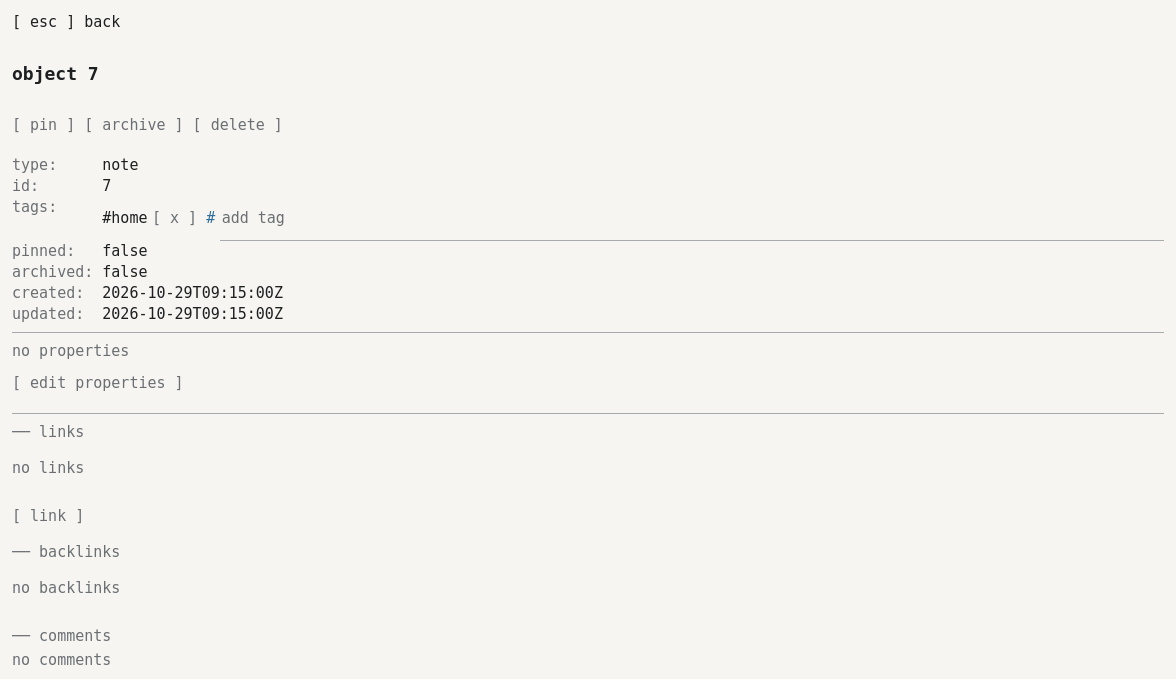
Test case: tags › adds a tag and shows the normalized tags from the server
Expected: the heading "object 7" is shown, [12, 52, 99, 96]
Type " Work/X " into the field labelled "add tag" at (692, 218), box [220, 196, 1164, 240]
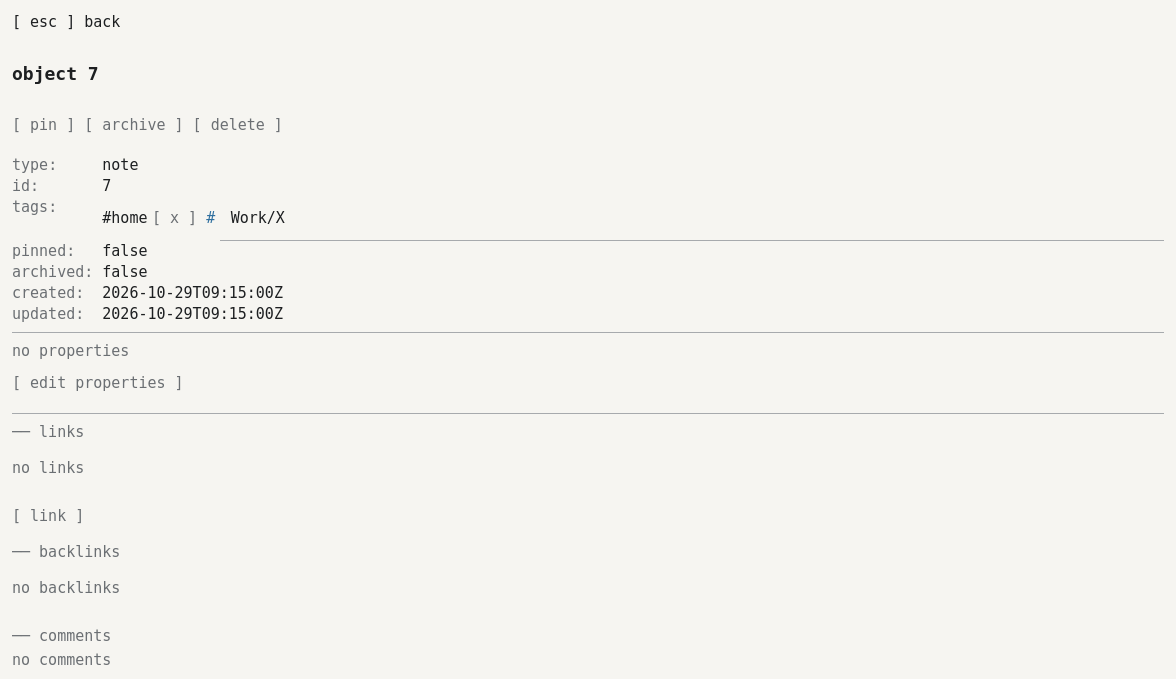
Submit the form from the field named "add tag", box [220, 196, 1164, 240]
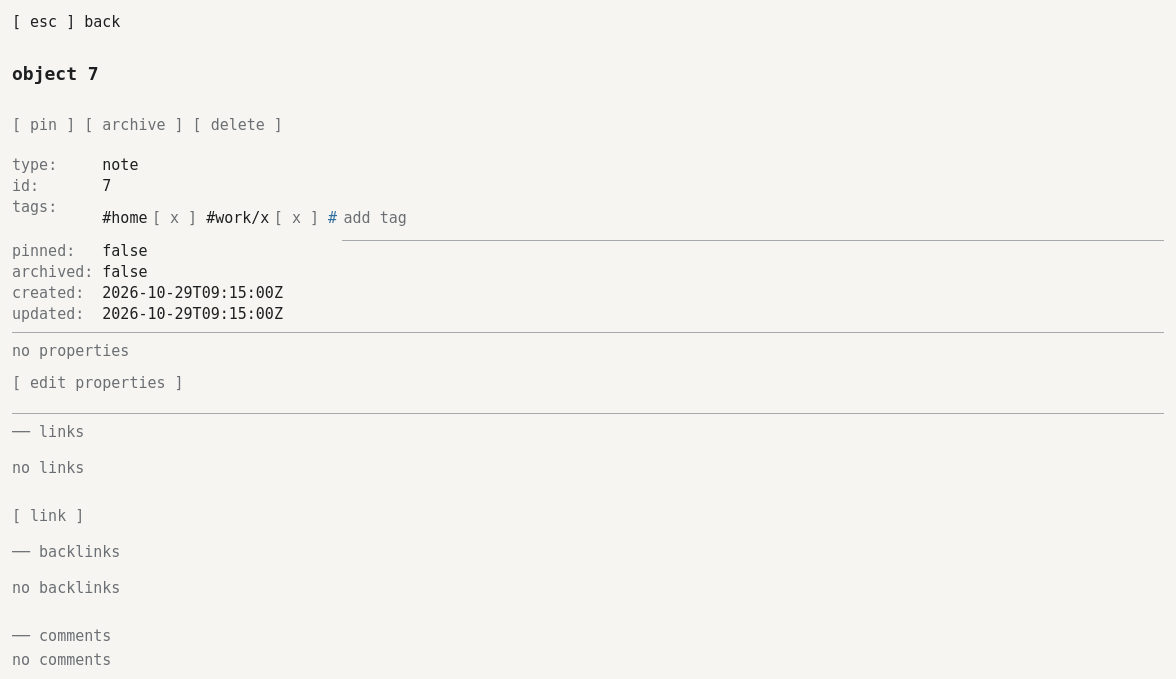
Result: the button named "remove tag work/x" is shown at [274, 196, 319, 240]
Result: the field labelled "add tag" is empty at [342, 196, 1164, 240]
